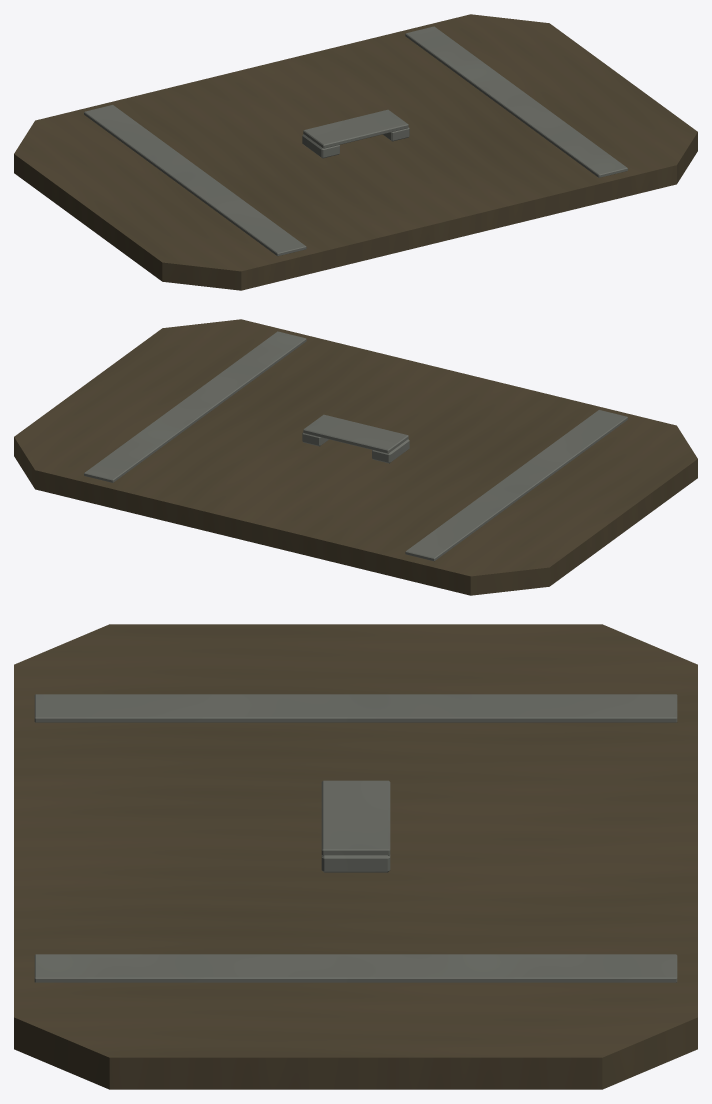
The model's file is WarrensC_WVC038_CuringVatLid_Mars_SM.fbx.
The picture shows the model from 3 angles, top to bottom: view 1: azimuth 30°, elevation 25°; view 2: azimuth 150°, elevation 25°; view 3: azimuth 270°, elevation 25°; orthographic projection. The views are drawn at different scales.
Parts seen in each view (by area): view 1: WarrensC_WVC038_CuringVatLid_Mars_SM.001; view 2: WarrensC_WVC038_CuringVatLid_Mars_SM.001; view 3: WarrensC_WVC038_CuringVatLid_Mars_SM.001.
Boxes of the visible parts, bbox=[...] form: WarrensC_WVC038_CuringVatLid_Mars_SM.001: bbox=[14, 14, 697, 290]; WarrensC_WVC038_CuringVatLid_Mars_SM.001: bbox=[14, 319, 697, 595]; WarrensC_WVC038_CuringVatLid_Mars_SM.001: bbox=[14, 624, 697, 1089].
Bounding box in the file's own units: 240 × 160 × 15.
